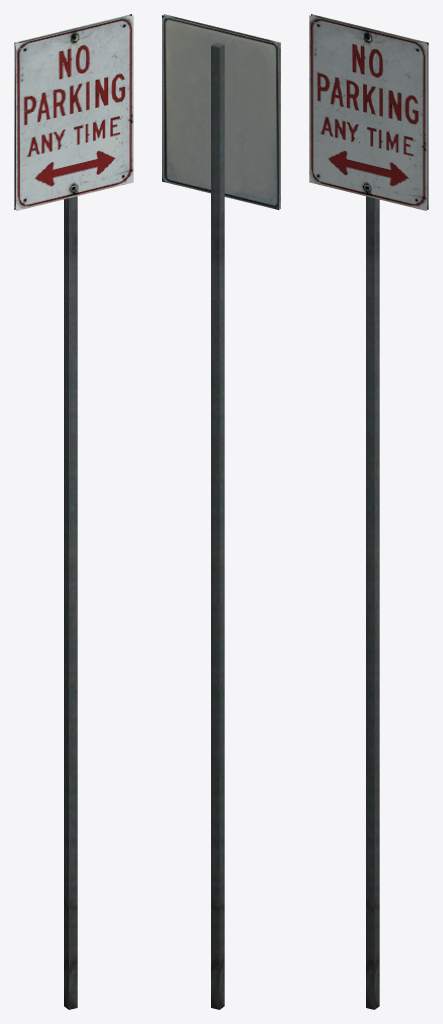
File: noparkinganytime.obj
3 views of the same model, side by side, from view 1: azimuth 30°, elevation 25°; view 2: azimuth 150°, elevation 25°; view 3: azimuth 330°, elevation 25° (orthographic).
Parts seen in each view (by area): view 1: handicawparking01; view 2: handicawparking01; view 3: handicawparking01.
Part boxes in pixels (x1,y1,x2,y2): handicawparking01: (14, 14, 133, 1009); handicawparking01: (162, 14, 280, 1009); handicawparking01: (309, 14, 428, 1009).
Bounding box in the file's own units: 0.2663 × 2.12 × 0.0265.
1 material, 1 textured.
